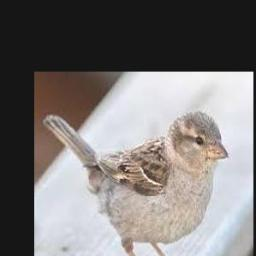Sparrow: (43, 110, 229, 256)
